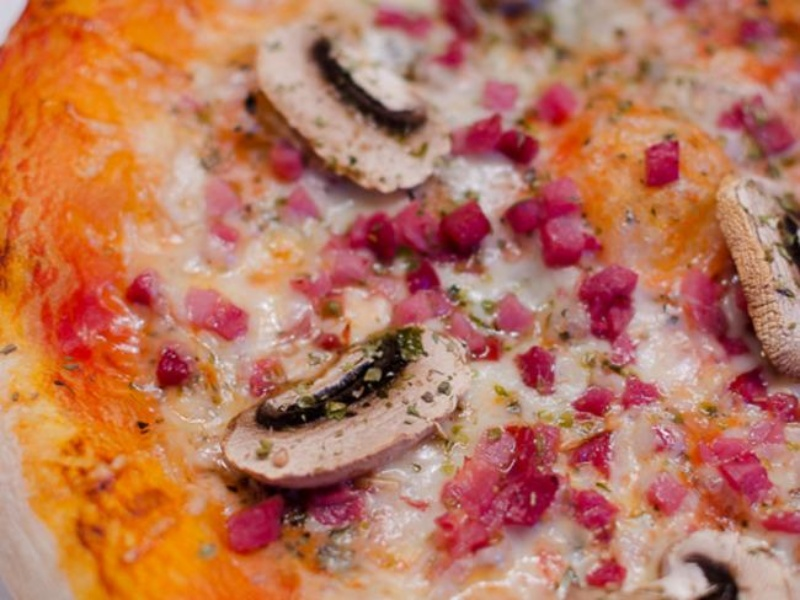champignon: (212, 326, 473, 494), (246, 26, 459, 204)
